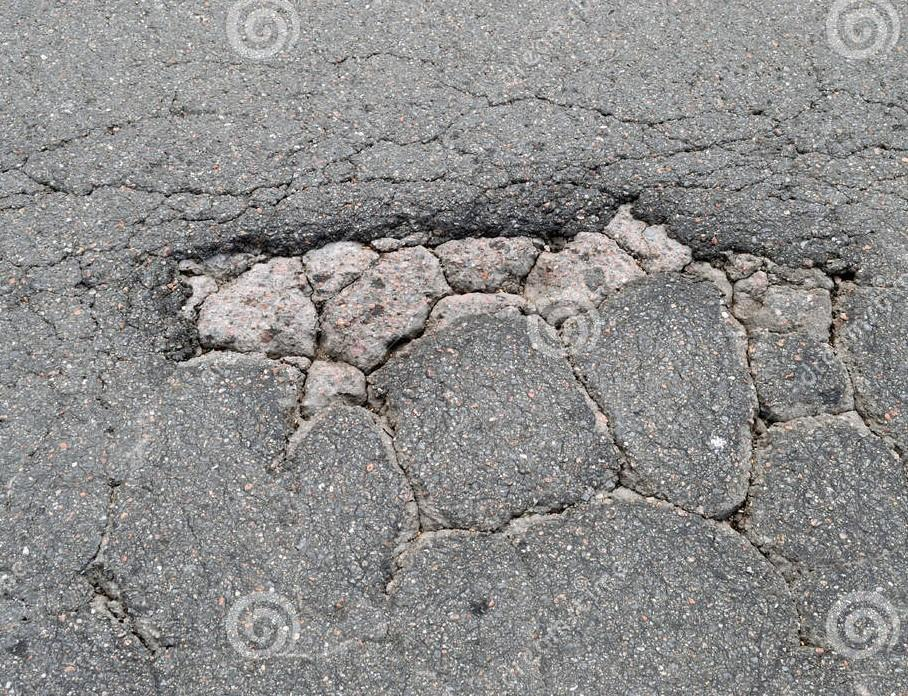alligator-crack: (15, 27, 908, 696)
